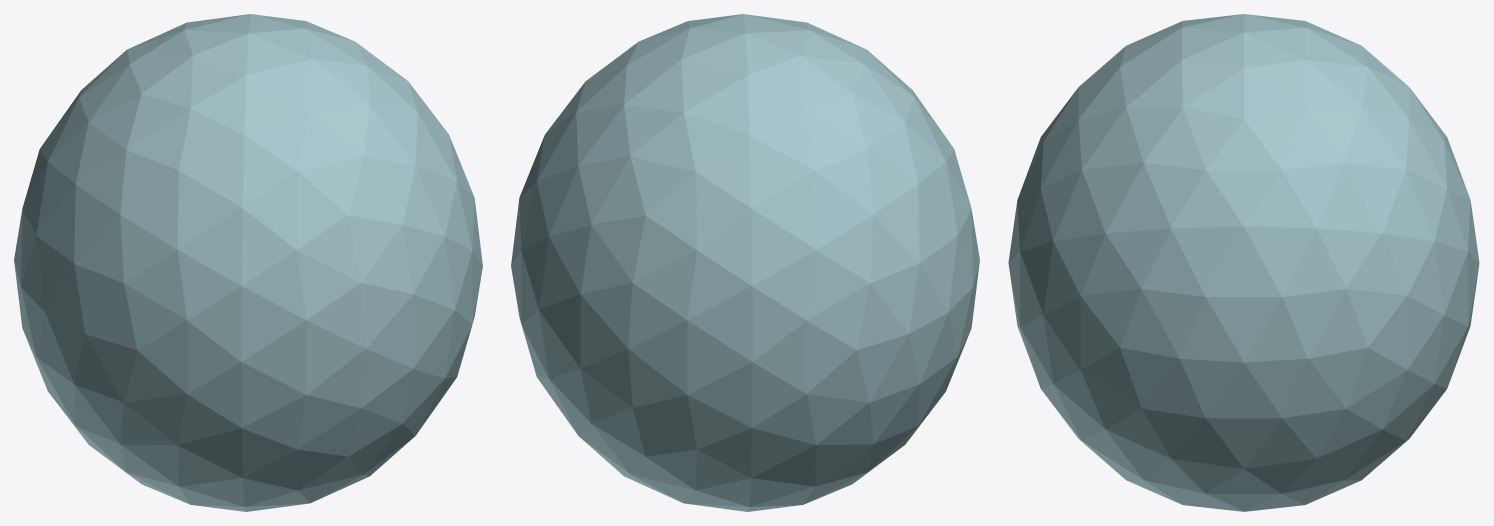
Rendered from dew_drop.glb.
3 renders of one model, left to right at view 1: azimuth 30°, elevation 25°; view 2: azimuth 150°, elevation 25°; view 3: azimuth 270°, elevation 25°, orthographic.
Visible parts, largest first — view 1: Dew_0; view 2: Dew_0; view 3: Dew_0.
Part boxes in pixels (left/top/right/bottom): Dew_0: left=14, top=14, right=482, bottom=511; Dew_0: left=511, top=14, right=979, bottom=511; Dew_0: left=1008, top=14, right=1479, bottom=511.
Bounding box in the file's own units: 0.6 × 0.648 × 0.6.
